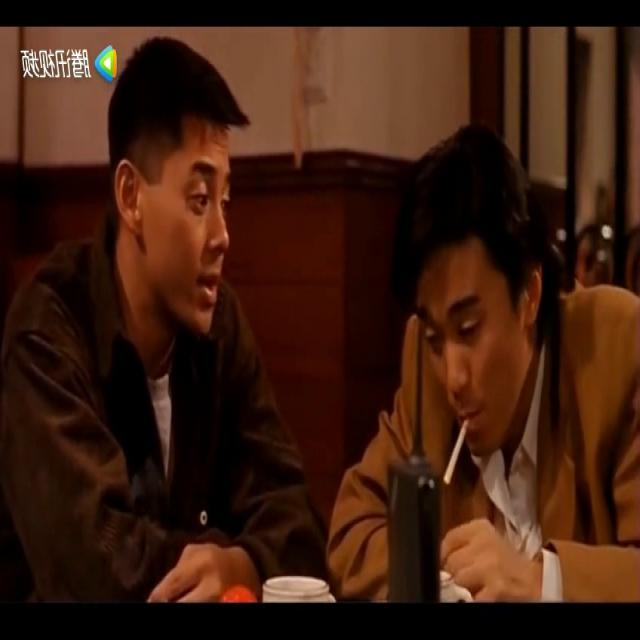smoking: (443, 417, 471, 486)
